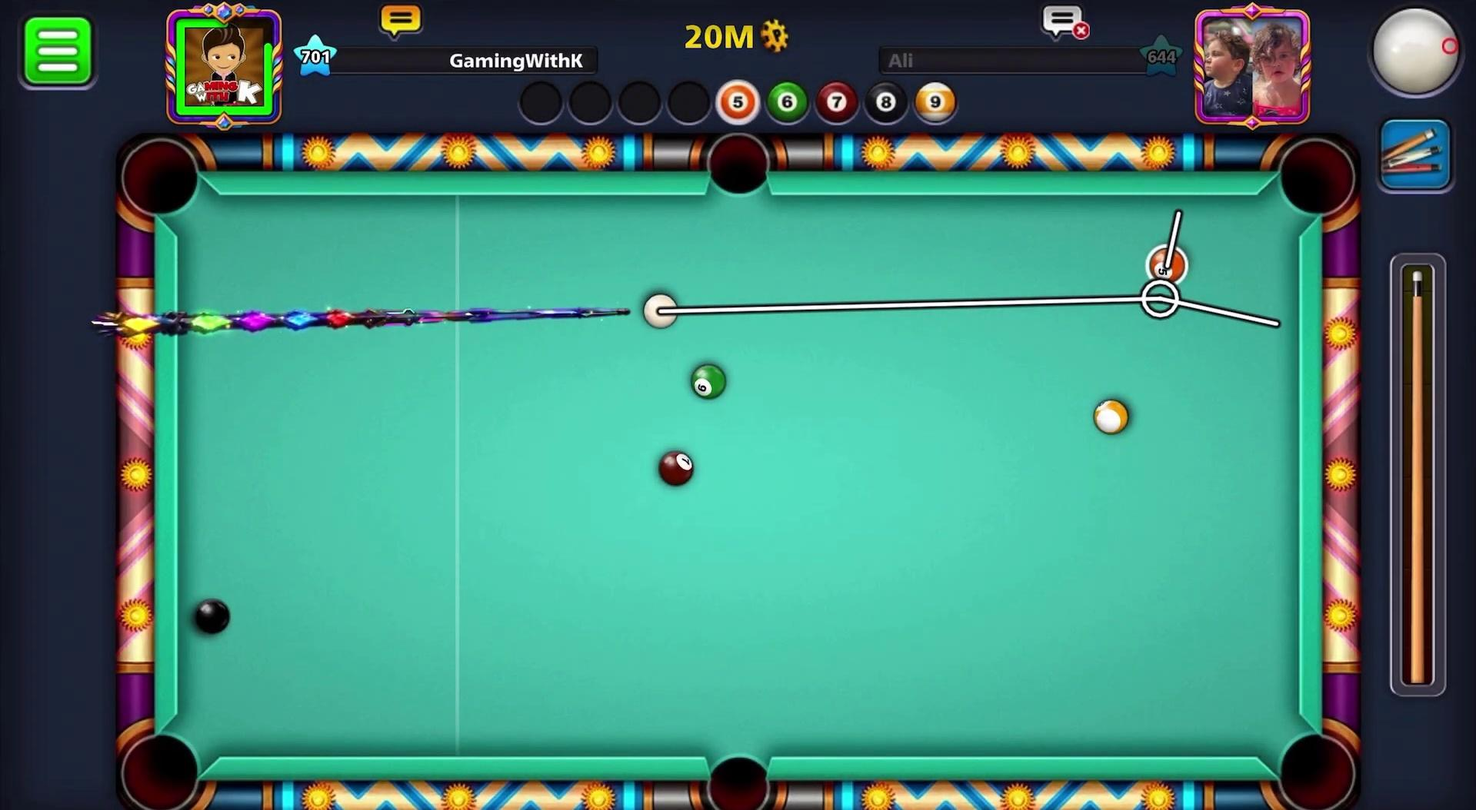Ball: (648, 443, 705, 494), (684, 357, 733, 407), (186, 593, 235, 639), (1089, 393, 1135, 440), (1144, 242, 1189, 288)
Force: (1385, 251, 1454, 699)
Guideline: (642, 210, 1281, 327)
Hole: (108, 126, 212, 231), (1262, 128, 1368, 231), (110, 713, 212, 809), (1264, 717, 1364, 809), (685, 734, 786, 809), (699, 124, 781, 204)
Play_Area: (167, 194, 1302, 759)
Spin: (1343, 0, 1475, 112)
White: (631, 287, 681, 334)
